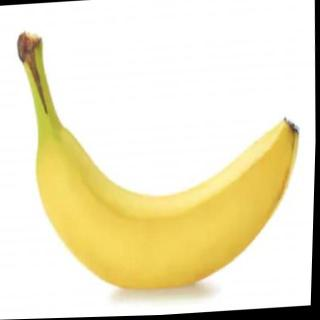banana: (31, 112, 307, 300)
